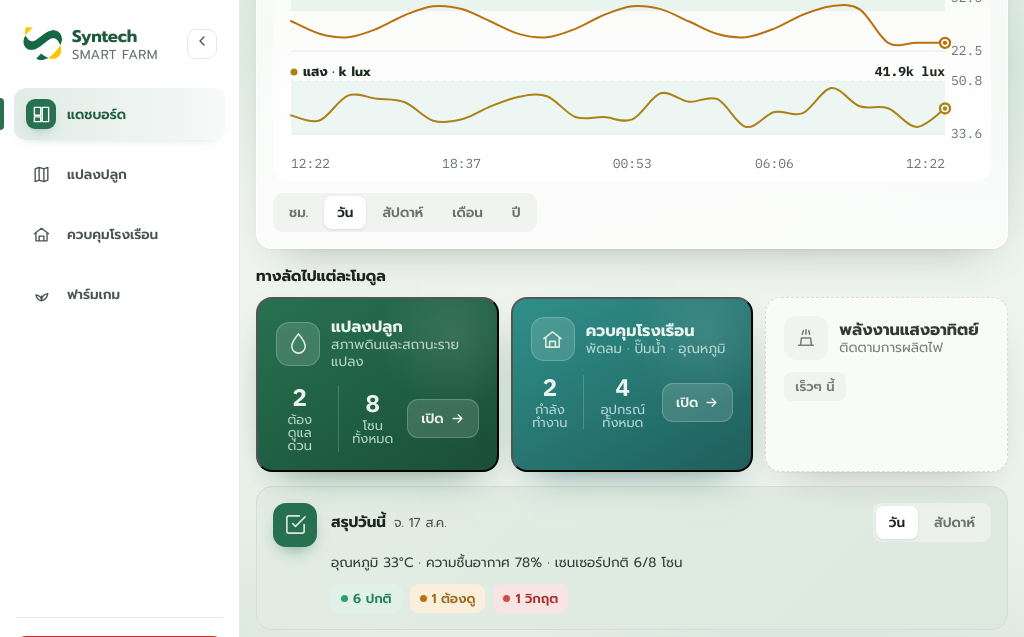
it: DashboardPage › ทางลัดชลประทานพาไปหน้าชลประทานจริง
(page scrolled)
What coordinates should you click on to do the following:
click the button "แปลงปลูก"
I would click on:
 (377, 384)
Its box is [256,297,499,472].
(page scrolled)
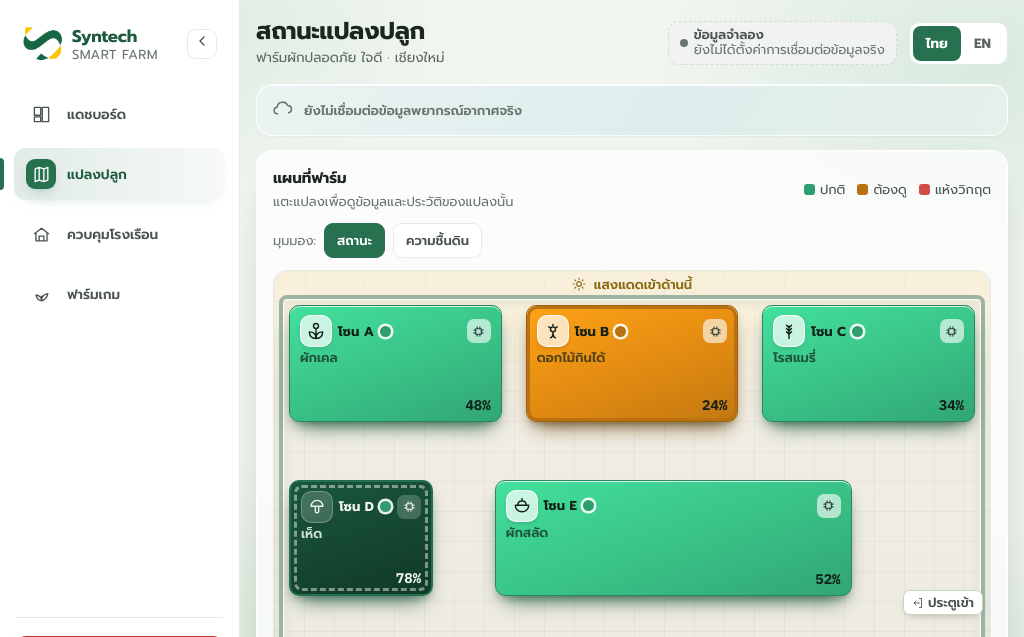
Check: the heading "สถานะแปลงปลูก" is shown, box [256,18,444,44]
